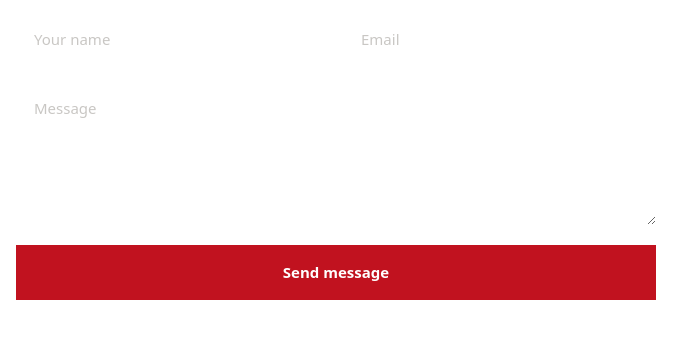
Test: ContactForm › shows a submission-failure message when delivery fails
Type "Lloyd" into the field with placeholder "Your name" at (172, 39), box [16,12,329,66]
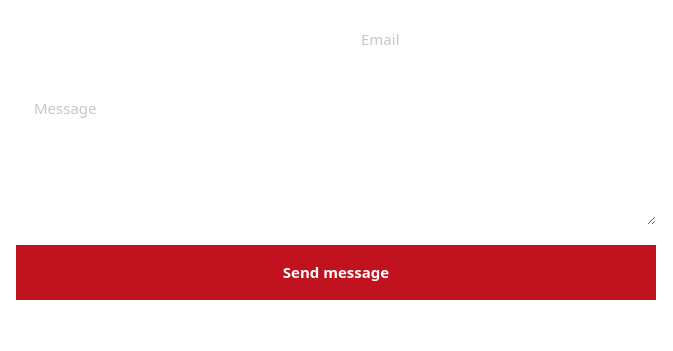
Type "lloyd@example.com" into the field with placeholder "Email" at (500, 39), box [343,12,656,66]
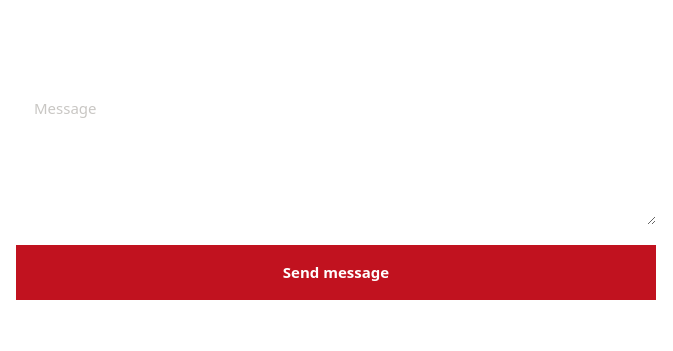
Type "Hello" into the text box with placeholder "Message" at (336, 153), box [16,80,656,225]
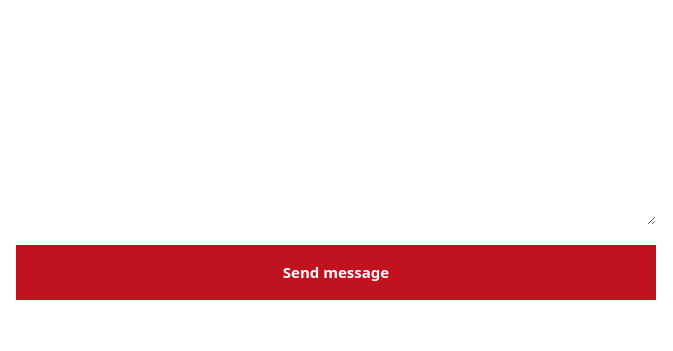
Click the button "Send message" at (336, 272), box [16,245,656,300]
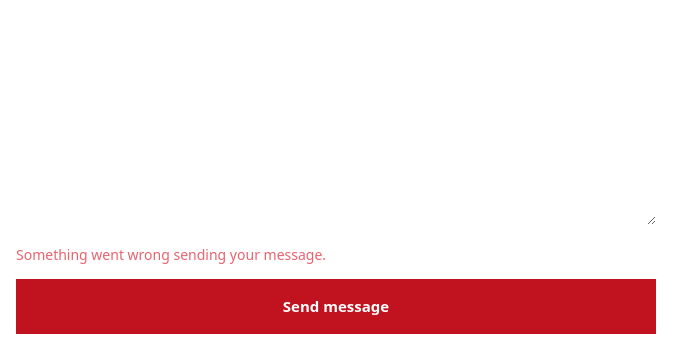
Result: the text "Something went wrong sending your message." is shown at [16,245,326,264]
